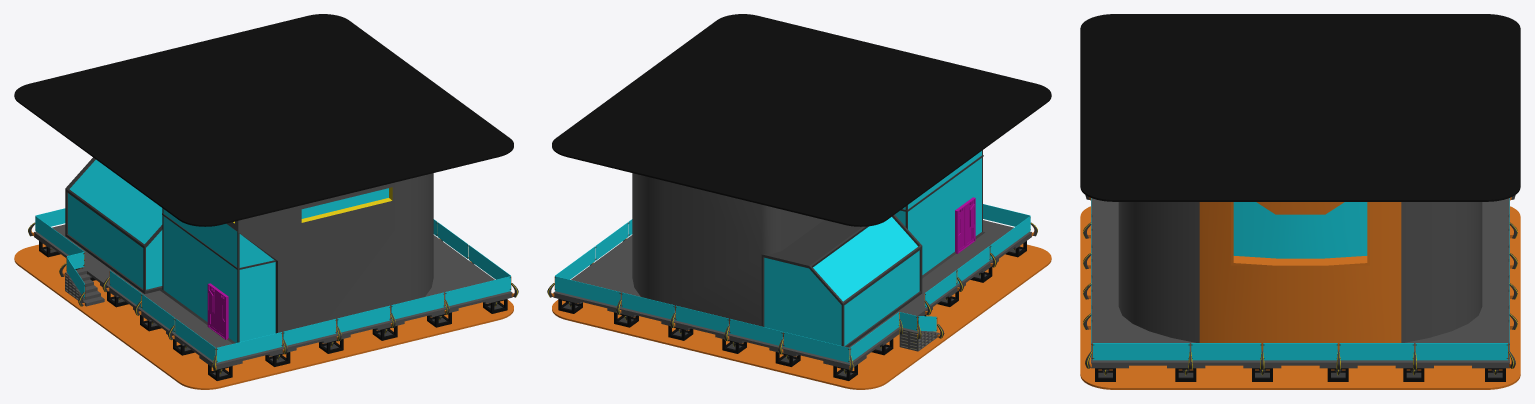
3 renders of one model, left to right at view 1: azimuth 30°, elevation 25°; view 2: azimuth 150°, elevation 25°; view 3: azimuth 270°, elevation 25°, orthographic. The views are drawn at different scales.
Parts seen in each view (by area): view 1: SM_MK14_Base_001; view 2: SM_MK14_Base_001; view 3: SM_MK14_Base_001.
Part boxes in pixels (x1=…): SM_MK14_Base_001: x1=14, y1=14, x2=518, y2=389; SM_MK14_Base_001: x1=547, y1=14, x2=1051, y2=389; SM_MK14_Base_001: x1=1080, y1=14, x2=1520, y2=389.
Bounding box in the file's own units: 2100 × 1000 × 2100.
